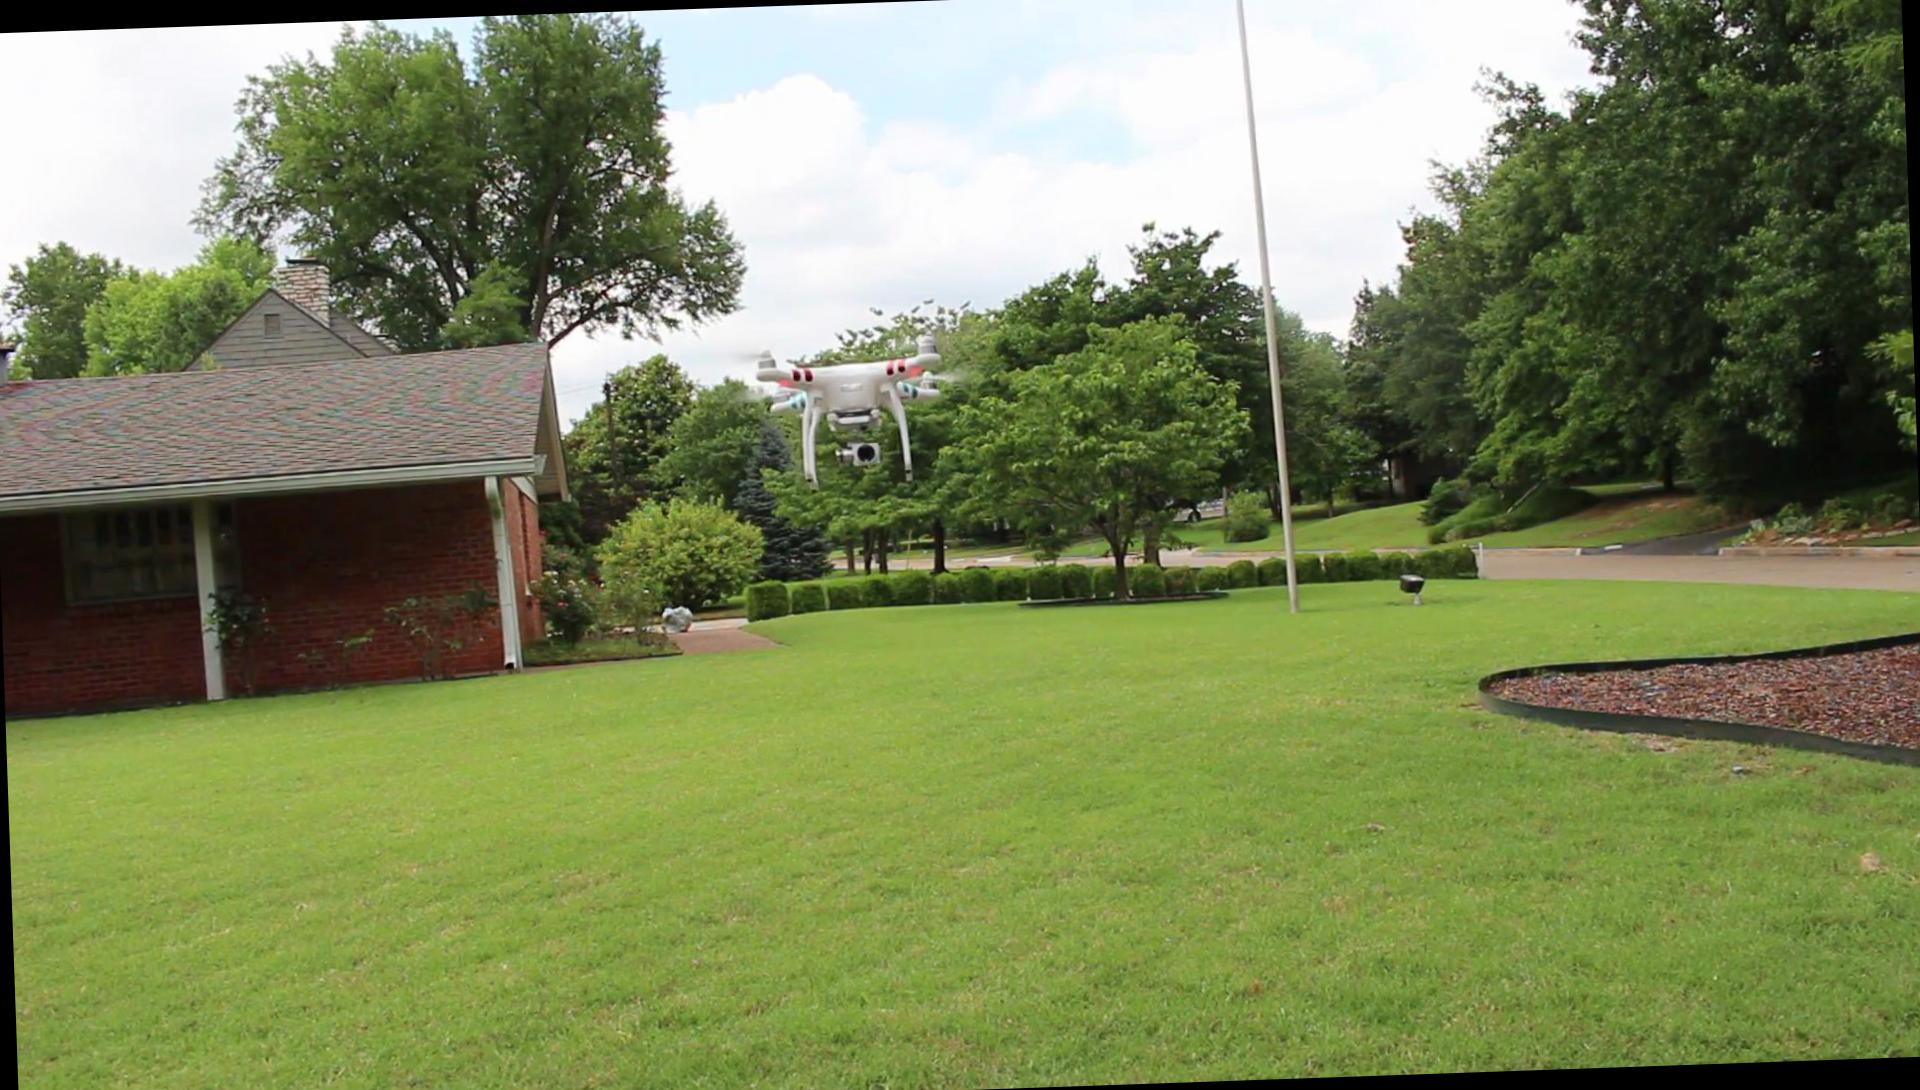drone: (737, 327, 959, 484)
